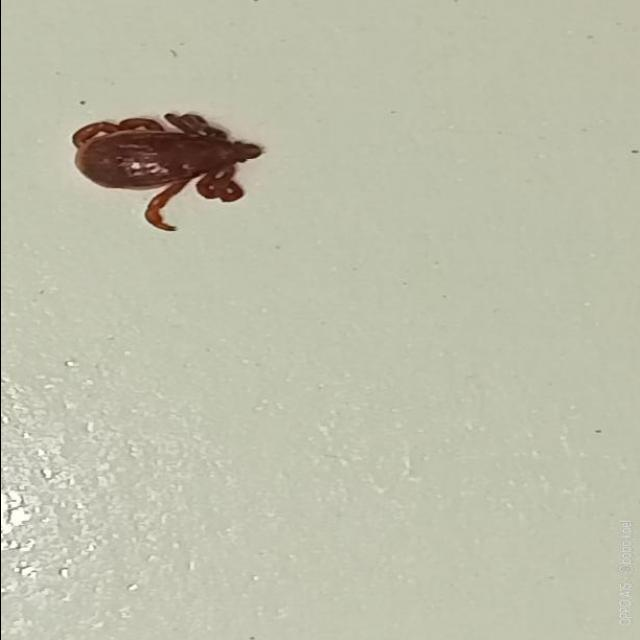Rhipicephalus Sanguineus-M: (72, 111, 265, 233)
